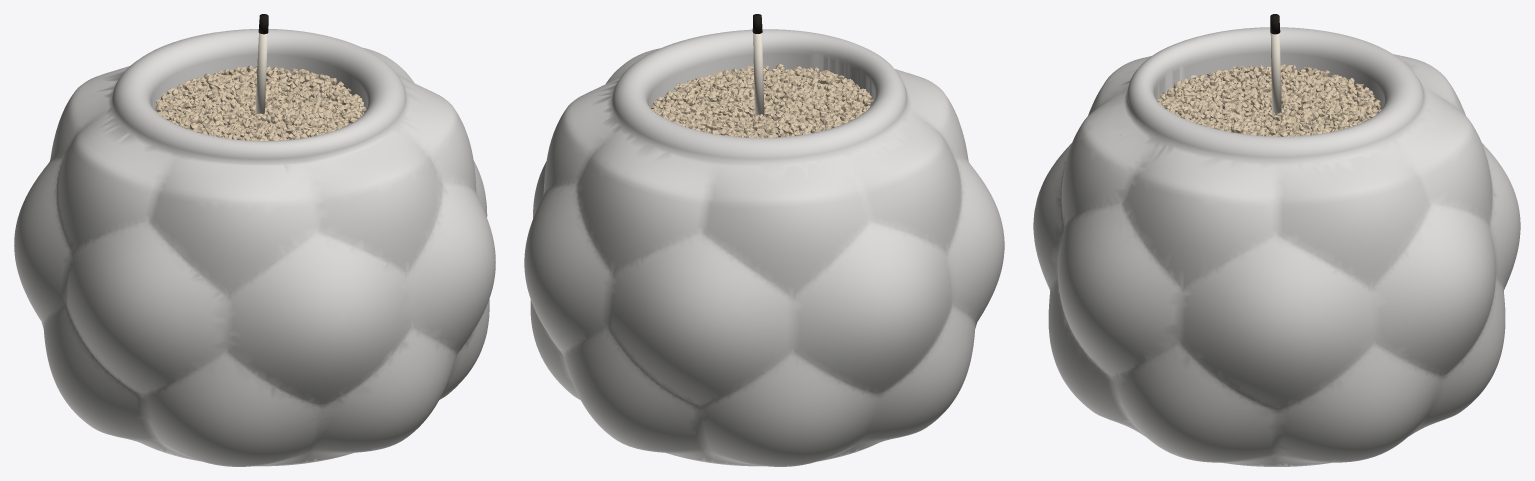
The model's file is cumulo.glb.
3 renders of one model, left to right at view 1: azimuth 30°, elevation 25°; view 2: azimuth 150°, elevation 25°; view 3: azimuth 270°, elevation 25°, orthographic.
Visible parts, largest first — view 1: Cumulo, Areia, Pavio0; view 2: Cumulo, Areia, Pavio0; view 3: Cumulo, Areia, Pavio0.
Part boxes in pixels (box(x1,y1,x2,y2)): Cumulo: box(14, 29, 495, 466); Areia: box(155, 65, 366, 140); Pavio0: box(255, 33, 267, 119); Cumulo: box(524, 29, 1004, 466); Areia: box(650, 64, 873, 137); Pavio0: box(753, 33, 764, 120); Cumulo: box(1033, 27, 1520, 466); Areia: box(1157, 64, 1381, 136); Pavio0: box(1270, 33, 1281, 115).
Size of the model in its own units: 0.1065 by 0.0946 by 0.108.
